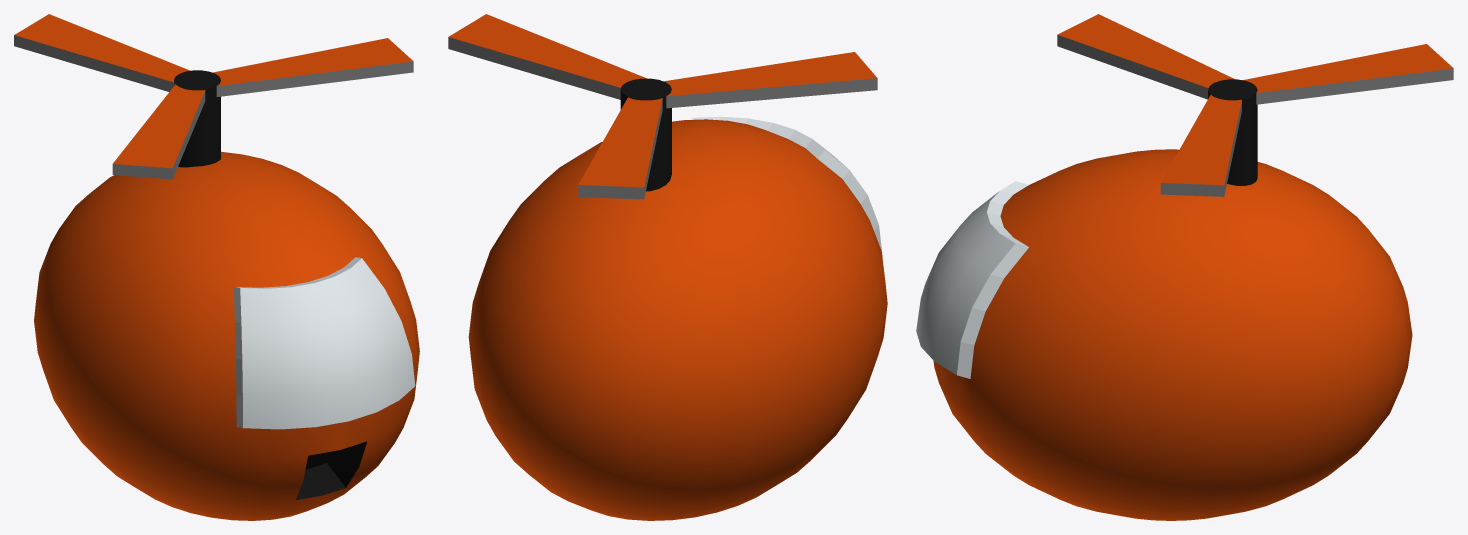
Rendered from Laser_copter.FBX.
The picture shows the model from 3 angles, left to right: view 1: azimuth 30°, elevation 25°; view 2: azimuth 150°, elevation 25°; view 3: azimuth 270°, elevation 25°; orthographic projection. The views are drawn at different scales.
Parts seen in each view (by area): view 1: Heli_body, Wing002, Wing001, Wing, Pole; view 2: Heli_body, Wing, Wing002, Wing001, Pole; view 3: Heli_body, Wing001, Wing, Wing002, Pole.
Boxes of the visible parts, bbox=[...] form: Heli_body: bbox=[34, 151, 419, 520]; Wing002: bbox=[213, 38, 413, 96]; Wing001: bbox=[14, 14, 189, 91]; Wing: bbox=[112, 84, 205, 179]; Pole: bbox=[174, 70, 220, 167]; Heli_body: bbox=[468, 116, 887, 520]; Wing: bbox=[664, 52, 877, 108]; Wing002: bbox=[448, 14, 646, 99]; Wing001: bbox=[578, 97, 662, 199]; Pole: bbox=[620, 78, 671, 191]; Heli_body: bbox=[916, 149, 1412, 520]; Wing001: bbox=[1243, 44, 1453, 104]; Wing: bbox=[1057, 14, 1234, 99]; Wing002: bbox=[1160, 95, 1241, 196]; Pole: bbox=[1208, 79, 1257, 185].
Size of the model in its own units: 71.03 by 78.51 by 92.47.
